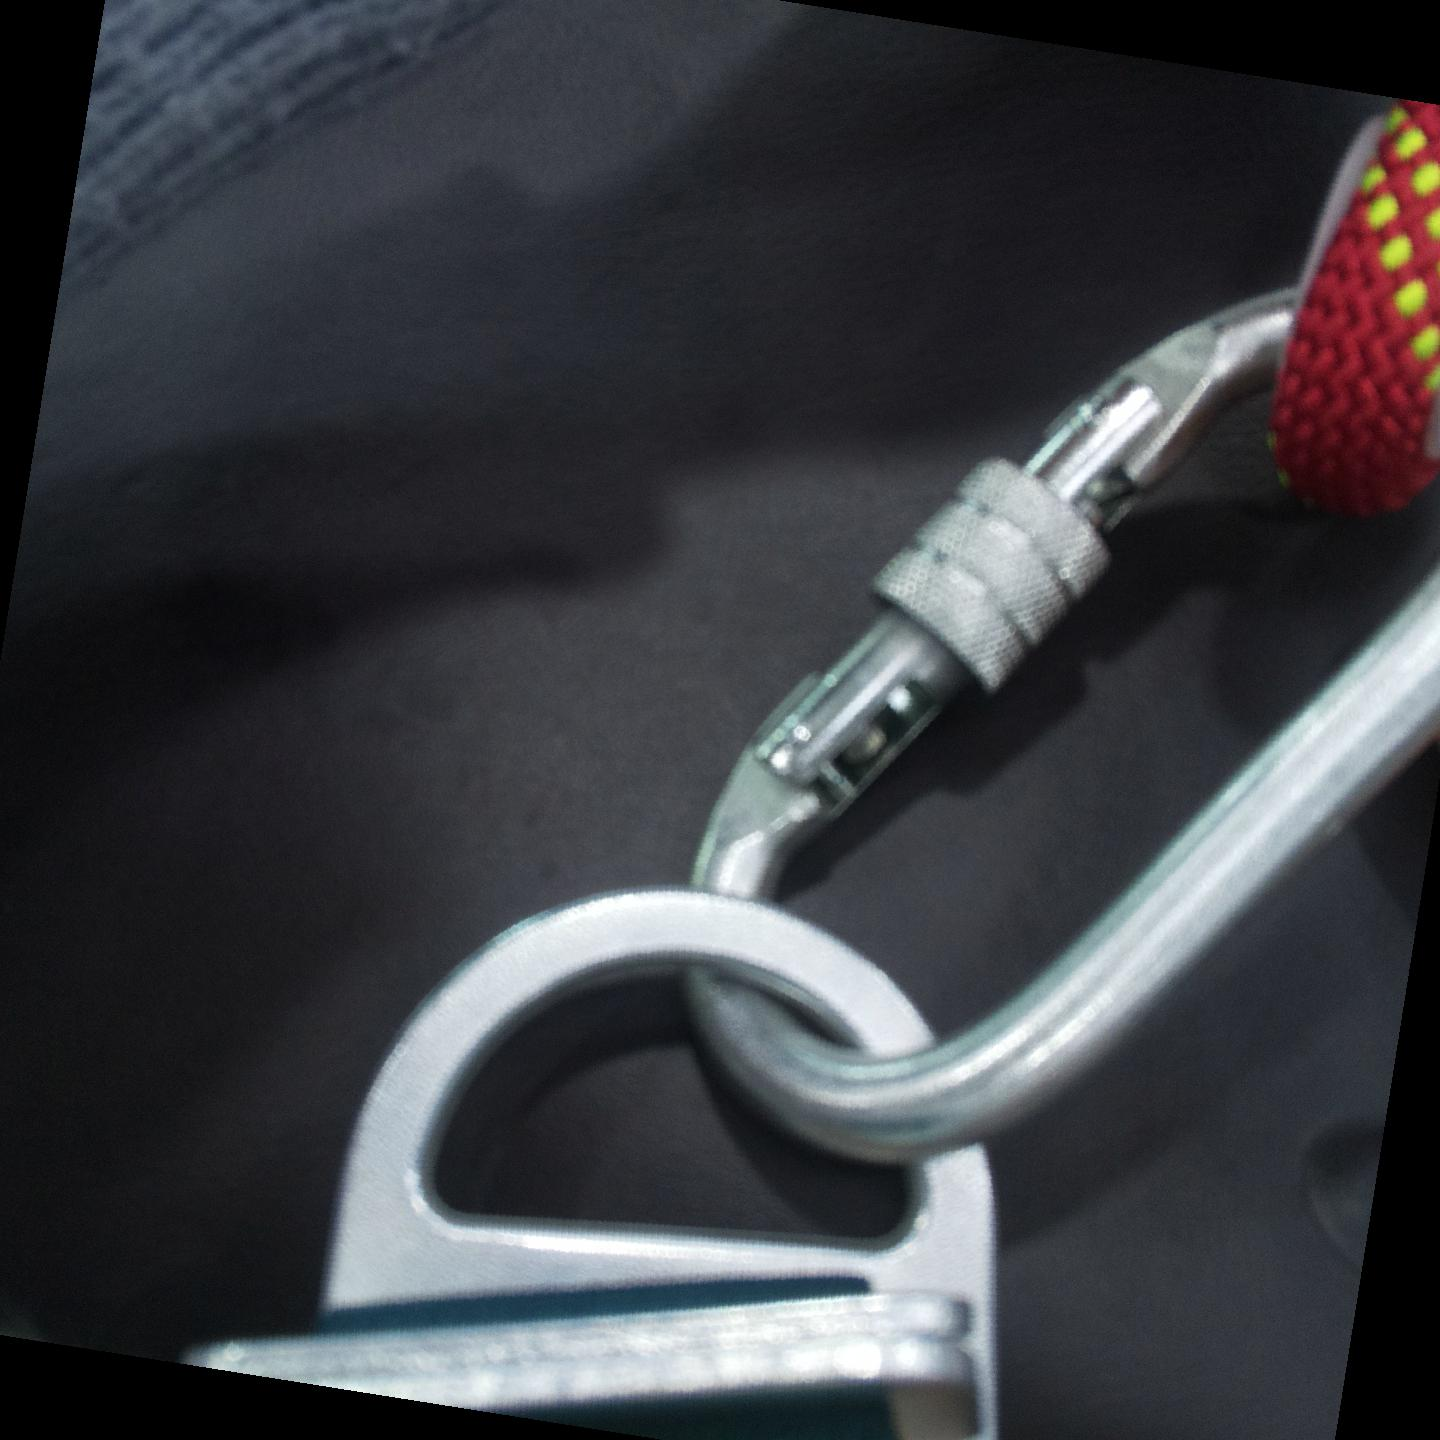SUCCESS: (314, 500, 1262, 1362)
